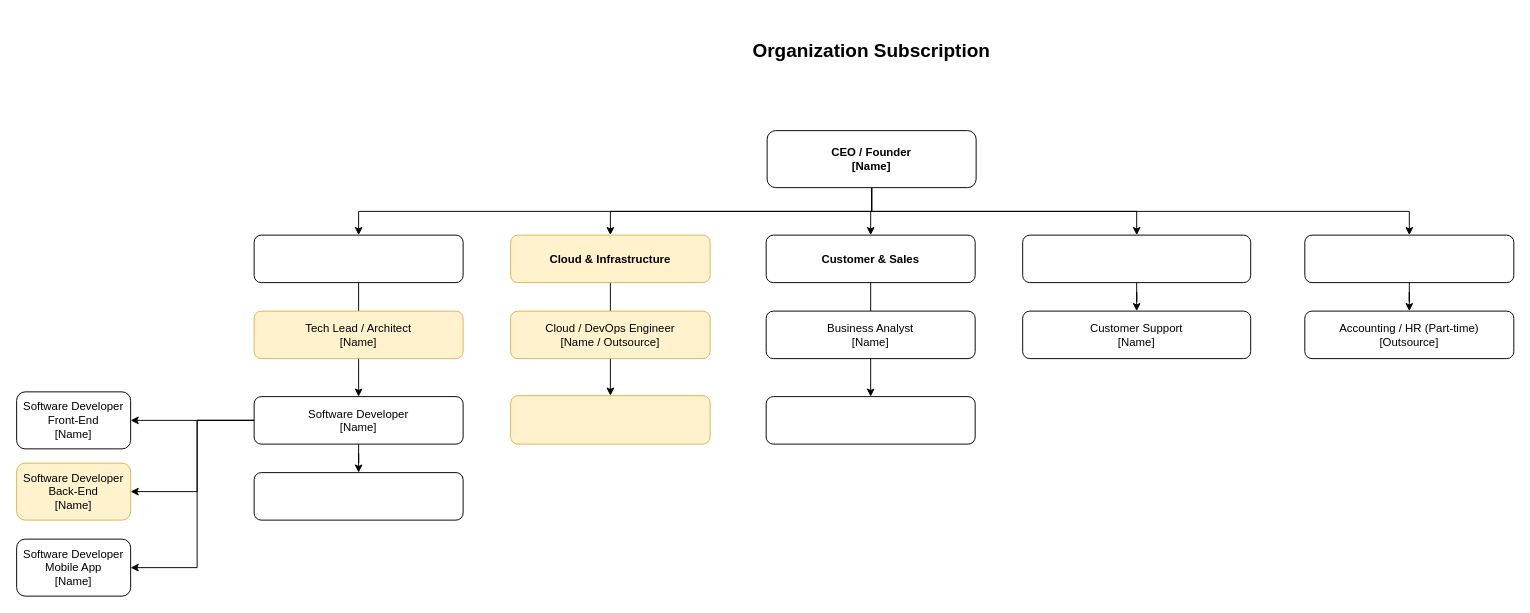
Some shapes in this 1530 by 613 pixel diagram are drawn without their labels. The centre of each missing label's shape, as x and y in pixels:
"Database Administrator (Shared) [Name / Outsource]" belongs at point 610,419.
"Finance & Admin" belongs at point 1409,258.
"Operations & Support" belongs at point 1136,258.
"Product & Technology" belongs at point 358,258.
"QA / Tester (Shared) [Name]" belongs at point 358,496.
"Sales / Account Manager [Name]" belongs at point 870,420.
